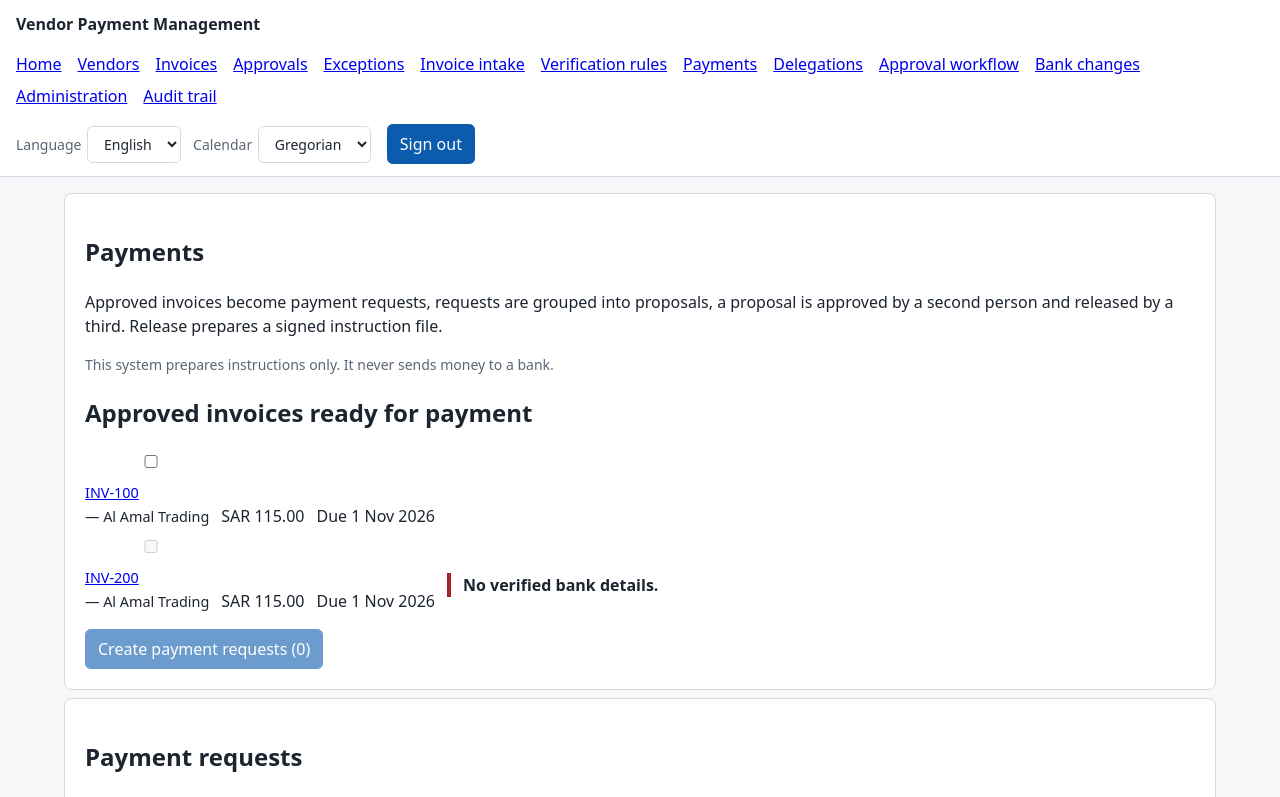
Scenario: payments page › shows per-invoice failures from the server with their translated reason
Click the checkbox labelled "INV-100 — Al Amal Trading".
click(151, 462)  # box [89, 455, 213, 468]
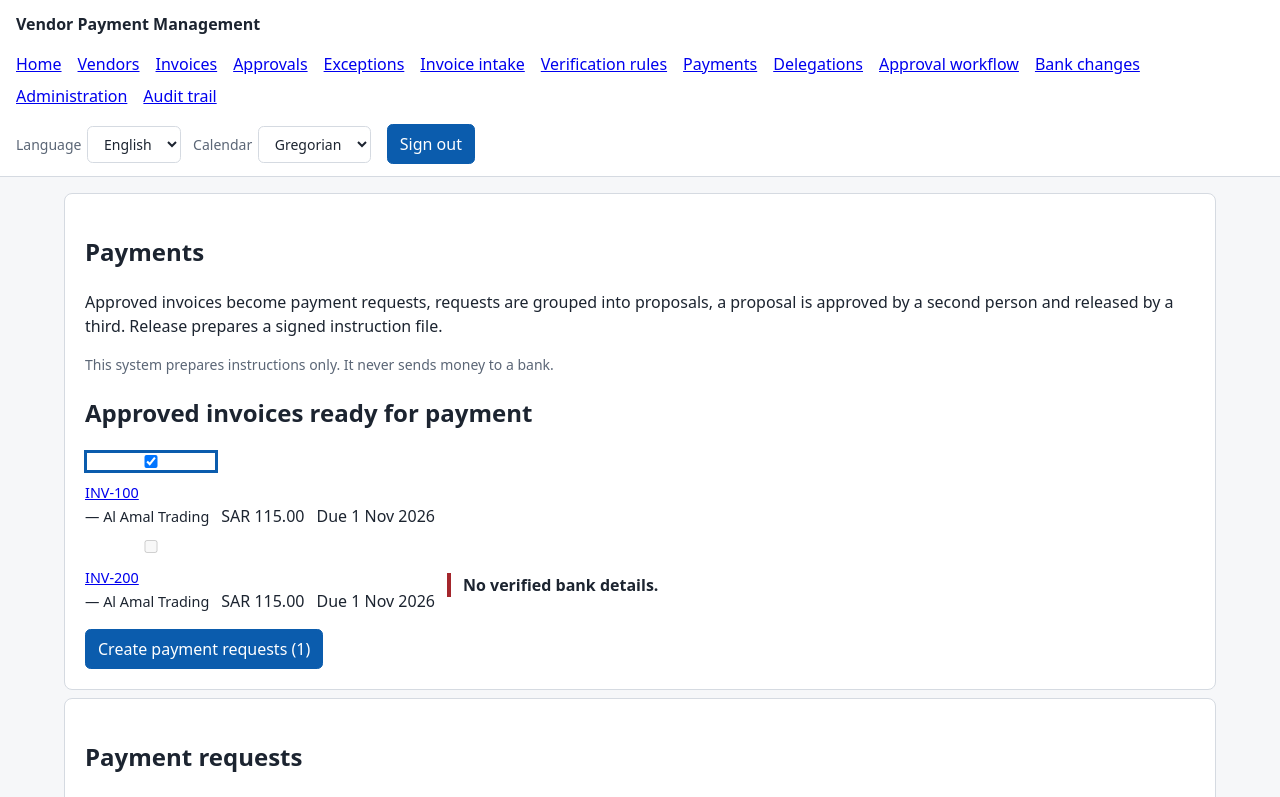
Click the button "Create payment requests (1)".
click(204, 649)  # box [85, 629, 323, 669]
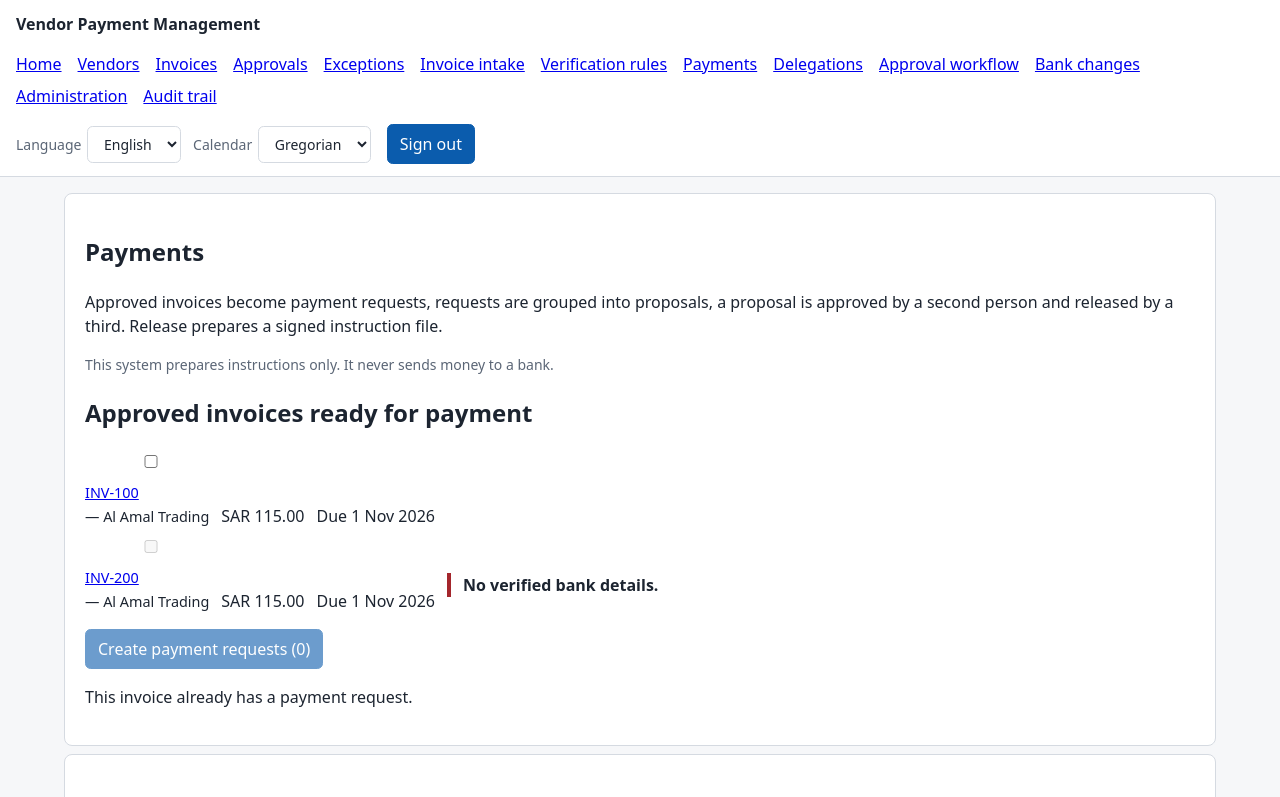
Now the list item "This invoice already has a payment request." is shown, box [85, 686, 412, 708]
